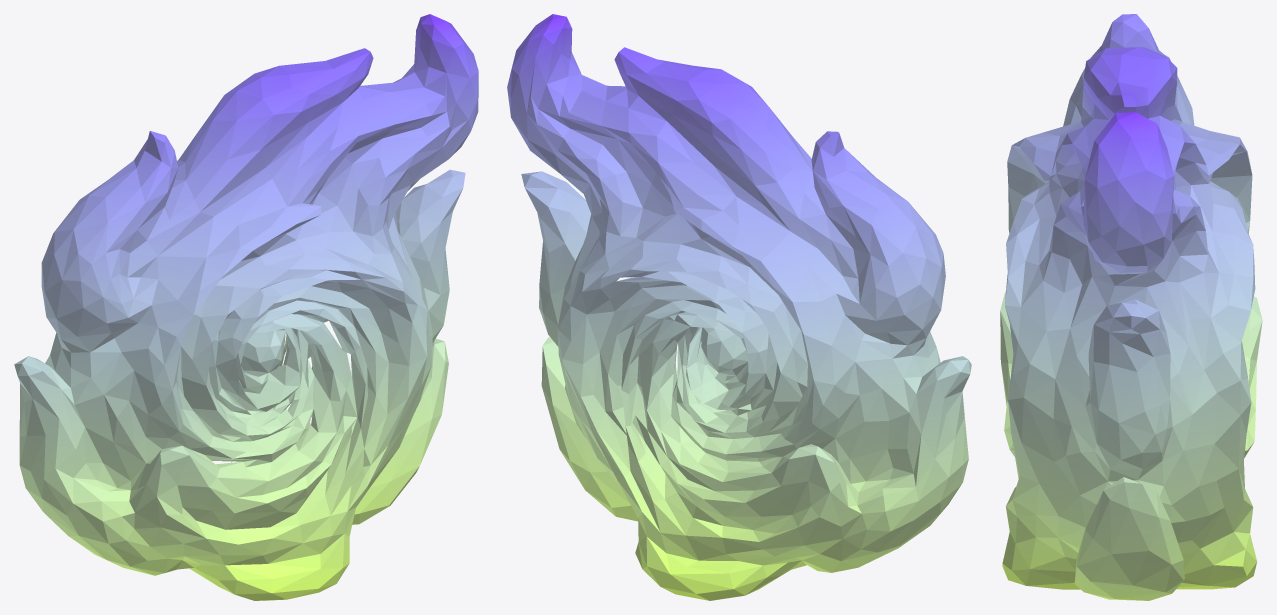
The model's file is 101_cyb_laser_gradient_fish_scales_2950_2026_10_03_70c34a.glb.
3 views of the same model, side by side, from view 1: azimuth 30°, elevation 25°; view 2: azimuth 150°, elevation 25°; view 3: azimuth 270°, elevation 25° (orthographic). The views are drawn at different scales.
Parts seen in each view (by area): view 1: geometry_0; view 2: geometry_0; view 3: geometry_0.
Boxes of the visible parts, x1,y1,x2,y2 form: geometry_0: (14,14,478,600); geometry_0: (507,14,971,600); geometry_0: (1000,14,1262,600).
Bounding box in the file's own units: 0.8713 × 0.9265 × 0.3871.
